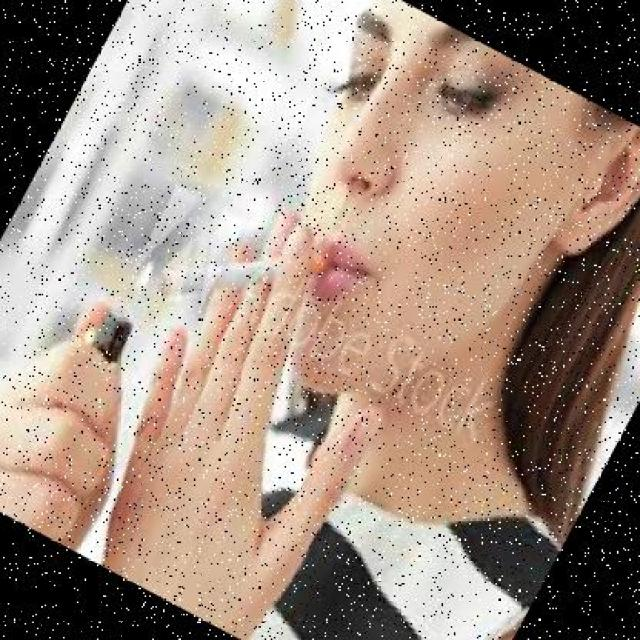fire: (108, 243, 174, 320)
